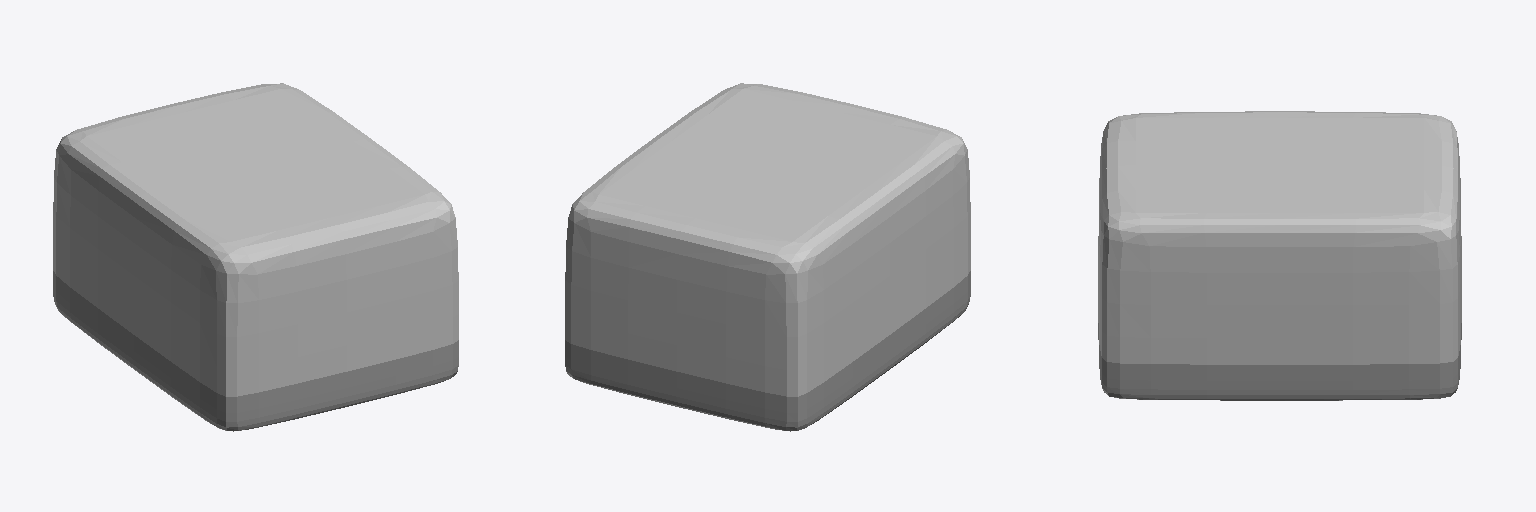
Rendered from tile_high.obj.
3 renders of one model, left to right at view 1: azimuth 30°, elevation 25°; view 2: azimuth 150°, elevation 25°; view 3: azimuth 270°, elevation 25°, orthographic.
Parts seen in each view (by area): view 1: Top, Bottom; view 2: Top, Bottom; view 3: Top, Bottom.
Part boxes in pixels (x1,y1,x2,y2): Top: (53, 83, 458, 396); Bottom: (53, 271, 458, 431); Top: (565, 83, 970, 396); Bottom: (565, 271, 970, 431); Top: (1098, 111, 1461, 364); Bottom: (1098, 323, 1461, 400).
Bounding box in the file's own units: 0.3506 × 0.249 × 0.4524.